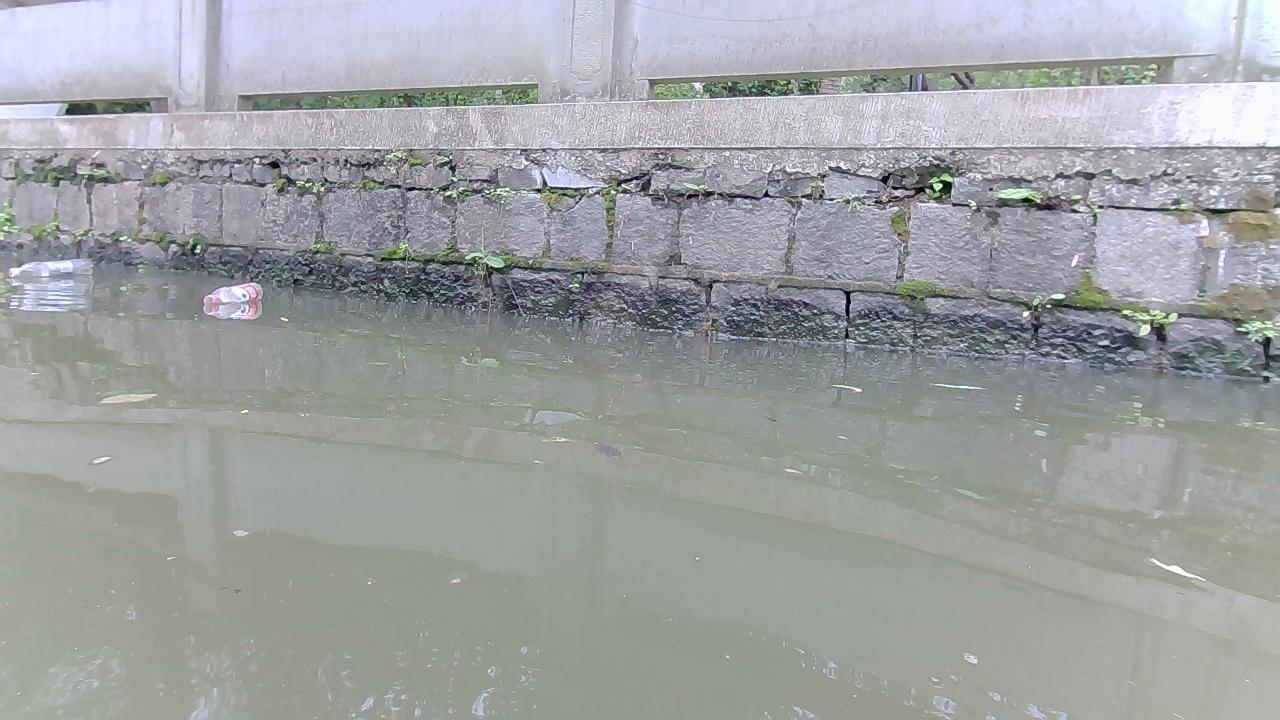bottle: (7, 258, 93, 276), (201, 280, 263, 304)
